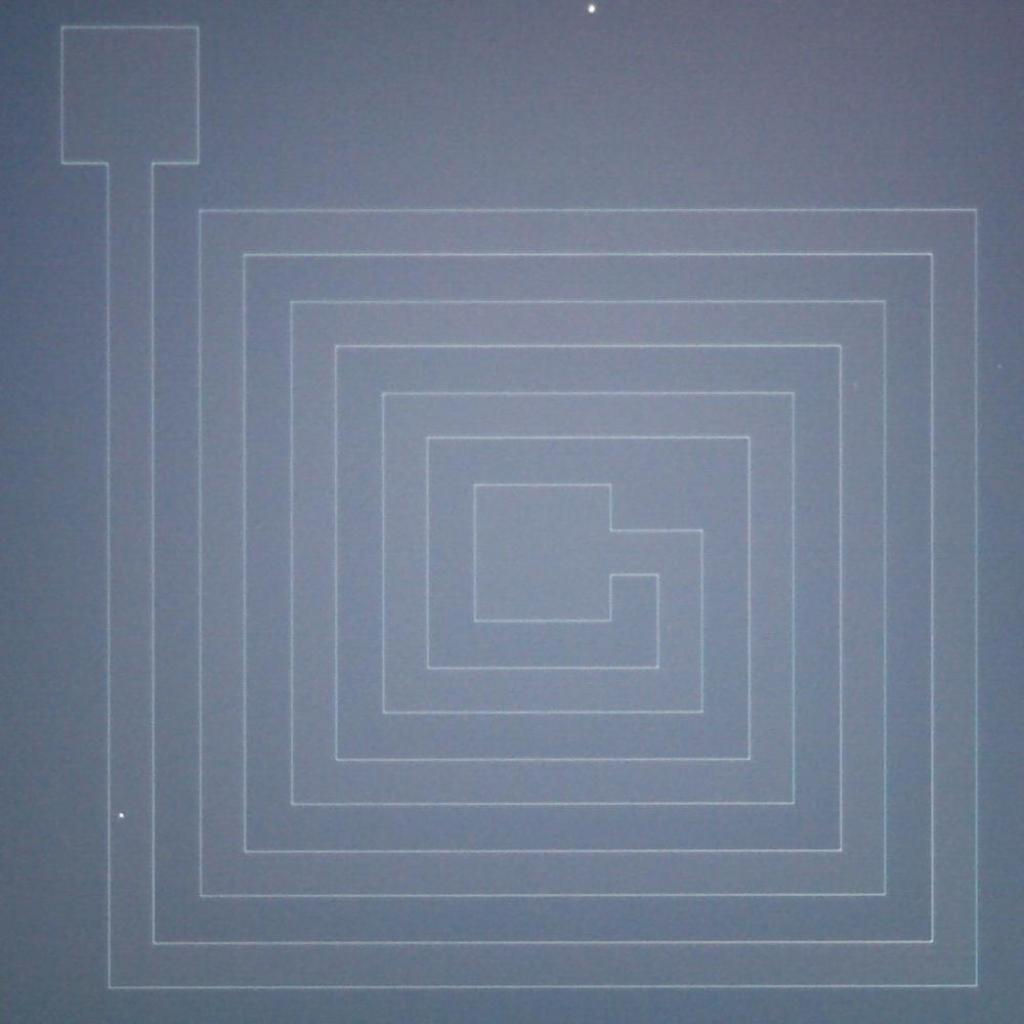dot: (588, 5, 596, 13), (119, 812, 125, 818)
